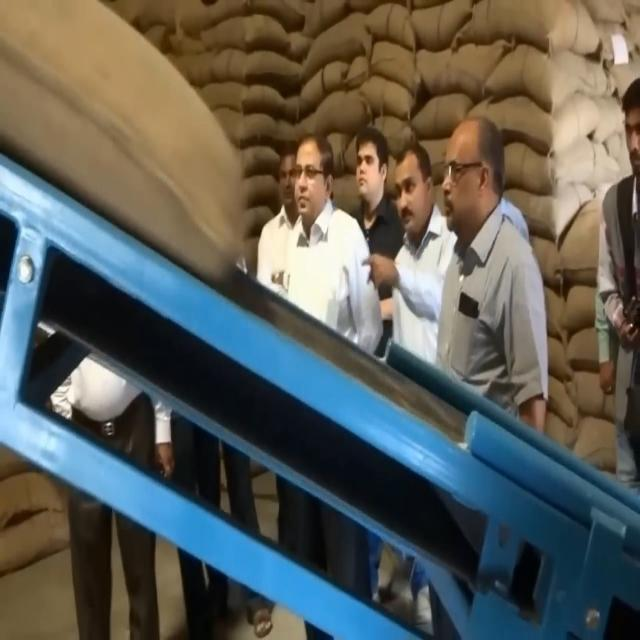gunny_bag: (0, 0, 255, 285), (470, 88, 598, 160), (448, 0, 598, 56), (480, 43, 596, 111), (501, 136, 622, 197), (300, 9, 380, 80), (199, 4, 293, 62), (420, 42, 514, 94), (193, 78, 296, 122), (307, 86, 383, 142), (208, 52, 310, 93), (366, 0, 422, 53), (404, 90, 474, 132), (408, 0, 466, 48)
